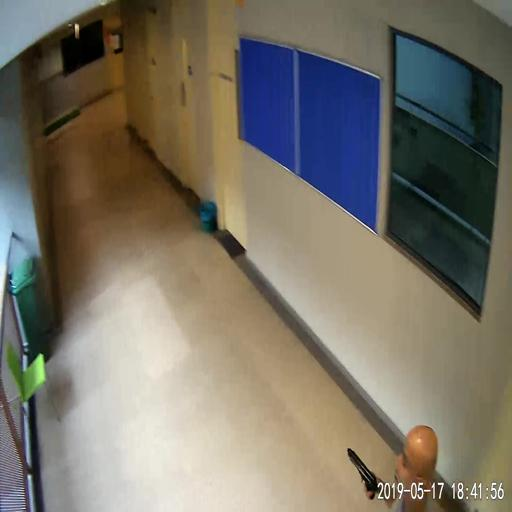pistol: (346, 448, 378, 498)
